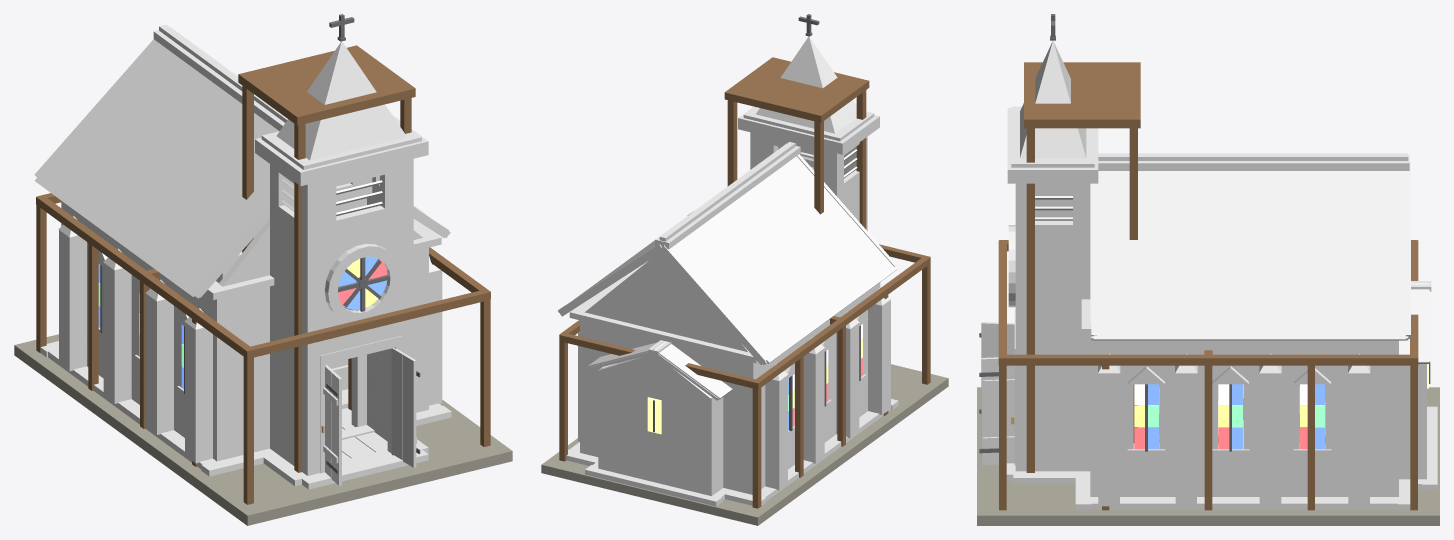
Rendered from church.glb.
The picture shows the model from 3 angles, left to right: view 1: azimuth 30°, elevation 25°; view 2: azimuth 150°, elevation 25°; view 3: azimuth 270°, elevation 25°; orthographic projection. The views are drawn at different scales.
Visible parts, largest first — view 1: Church_Site_Foundation_foundation, PRP_BLD_church_Tower_Side_L.001, Church_Tower_Frame_Crown, PRP_BLD_church_Spire.001, PRP_BLD_church_Roof_Course_-1_1.001, PRP_BLD_church_Roof_Course_-1_3.001, PRP_BLD_church_Wall_Front_L.001, PRP_BLD_church_Roof_Course_-1_0.001, PRP_BLD_church_Roof_Course_-1_2.001, PRP_BLD_church_Roof_Course_-1_4.001, PRP_BLD_church_Tower_Front_L.001, PRP_BLD_church_Buttress_L_2.001 (+46 smaller); view 2: PRP_BLD_church_Chancel_Wall_B.001, Church_Site_Foundation_foundation, PRP_BLD_church_Gable_Back.001, Church_Tower_Frame_Crown, PRP_BLD_church_Roof_Course_-1_1.001, PRP_BLD_church_Wall_Back_L.001, PRP_BLD_church_Roof_Course_-1_3.001, PRP_BLD_church_Roof_Course_-1_0.001, PRP_BLD_church_Roof_Course_-1_4.001, PRP_BLD_church_Roof_Course_-1_2.001, PRP_BLD_church_Roof_Course_-1_6.001, PRP_BLD_church_Roof_Course_-1_5.001 (+37 smaller); view 3: PRP_BLD_church_Tower_Side_R.001, Church_Site_Foundation_foundation, PRP_BLD_church_Roof_Course_1_1.001, PRP_BLD_church_Roof_Course_1_3.001, PRP_BLD_church_Roof_Course_1_5.001, PRP_BLD_church_Roof_Course_1_0.001, PRP_BLD_church_Roof_Course_1_2.001, Church_Tower_Frame_Crown, PRP_BLD_church_Roof_Course_1_4.001, PRP_BLD_church_Wall_R_Pier_3.001, PRP_BLD_church_Roof_Course_1_6.001, PRP_BLD_church_Wall_R_Pier_2.001 (+44 smaller).
Boxes of the visible parts, box(x1,y1,x2,y2) form: Church_Site_Foundation_foundation: box(14, 334, 512, 525); PRP_BLD_church_Tower_Side_L.001: box(270, 213, 316, 475); Church_Tower_Frame_Crown: box(238, 45, 415, 125); PRP_BLD_church_Spire.001: box(276, 41, 406, 160); PRP_BLD_church_Roof_Course_-1_1.001: box(53, 137, 227, 273); PRP_BLD_church_Roof_Course_-1_3.001: box(90, 97, 263, 232); PRP_BLD_church_Wall_Front_L.001: box(217, 286, 269, 460); PRP_BLD_church_Roof_Course_-1_0.001: box(34, 160, 206, 296); PRP_BLD_church_Roof_Course_-1_2.001: box(73, 117, 244, 249); PRP_BLD_church_Roof_Course_-1_4.001: box(109, 76, 269, 209); PRP_BLD_church_Tower_Front_L.001: box(302, 236, 325, 475); PRP_BLD_church_Buttress_L_2.001: box(103, 263, 131, 403); PRP_BLD_church_Chancel_Wall_B.001: box(598, 371, 715, 495); Church_Site_Foundation_foundation: box(541, 364, 948, 525); PRP_BLD_church_Gable_Back.001: box(585, 252, 748, 352); Church_Tower_Frame_Crown: box(724, 57, 869, 122); PRP_BLD_church_Roof_Course_-1_1.001: box(739, 234, 881, 345); PRP_BLD_church_Wall_Back_L.001: box(706, 351, 758, 494); PRP_BLD_church_Roof_Course_-1_3.001: box(710, 201, 852, 310); PRP_BLD_church_Roof_Course_-1_0.001: box(756, 253, 897, 363); PRP_BLD_church_Roof_Course_-1_4.001: box(695, 187, 835, 293); PRP_BLD_church_Roof_Course_-1_2.001: box(724, 220, 864, 326); PRP_BLD_church_Roof_Course_-1_6.001: box(670, 156, 809, 262); PRP_BLD_church_Roof_Course_-1_5.001: box(683, 171, 814, 278); PRP_BLD_church_Tower_Side_R.001: box(1026, 237, 1090, 471); Church_Site_Foundation_foundation: box(977, 387, 1439, 525); PRP_BLD_church_Roof_Course_1_1.001: box(1097, 286, 1405, 314); PRP_BLD_church_Roof_Course_1_3.001: box(1097, 238, 1405, 266); PRP_BLD_church_Roof_Course_1_5.001: box(1097, 189, 1405, 217); PRP_BLD_church_Roof_Course_1_0.001: box(1093, 315, 1405, 340); PRP_BLD_church_Roof_Course_1_2.001: box(1097, 263, 1405, 286); Church_Tower_Frame_Crown: box(1024, 62, 1140, 128); PRP_BLD_church_Roof_Course_1_4.001: box(1097, 217, 1405, 237); PRP_BLD_church_Wall_R_Pier_3.001: box(1325, 340, 1386, 496); PRP_BLD_church_Roof_Course_1_6.001: box(1097, 171, 1405, 189); PRP_BLD_church_Wall_R_Pier_2.001: box(1243, 340, 1299, 496).
Size of the model in its own units: 6.5 by 10.55 by 9.9.
